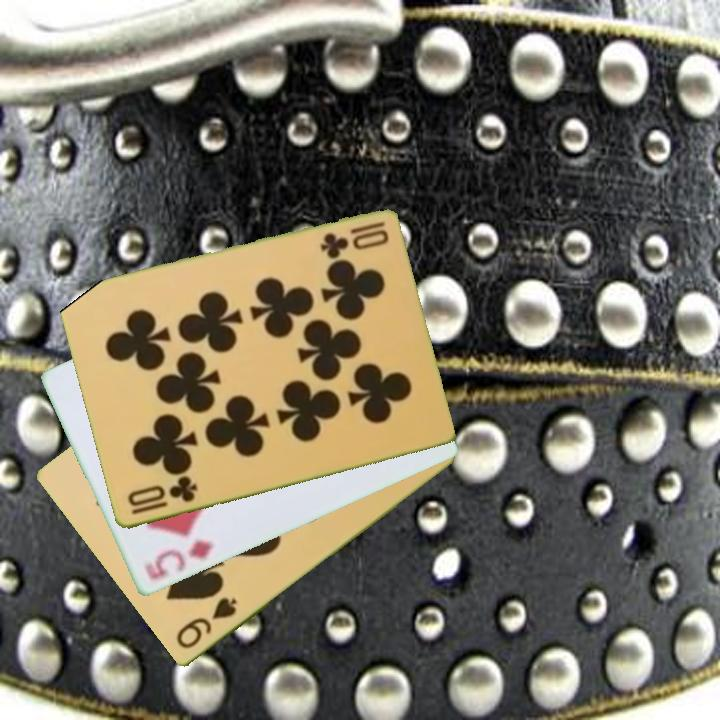10c: (124, 474, 200, 518), (316, 218, 388, 260)
5d: (140, 537, 216, 584)
9s: (172, 594, 240, 653)
